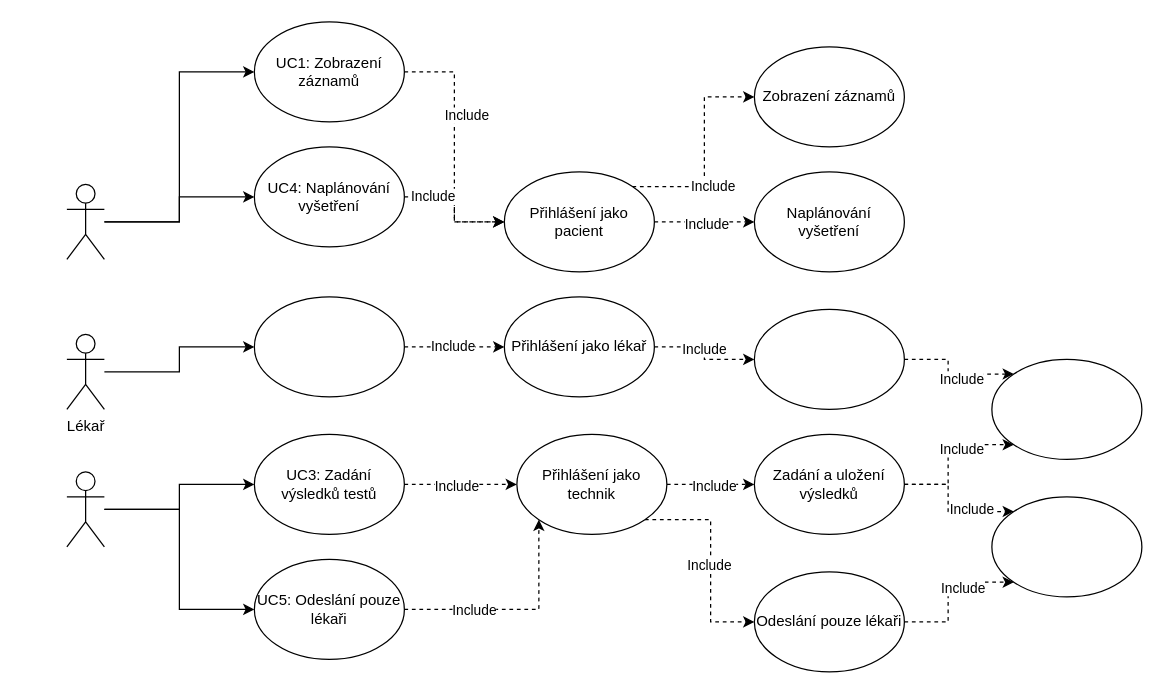
Some shapes in this 1164 by 694 pixel diagram are drawn without their labels. Each missing label, with the centre of its shape:
Informování lékaře: (1066,546)
Informování pacienta: (1066,408)
Laboratorní technik: (85,509)
Pacient: (85,221)
Předepsání léků: (828,358)
UC2: Předepsání léků: (328,346)
